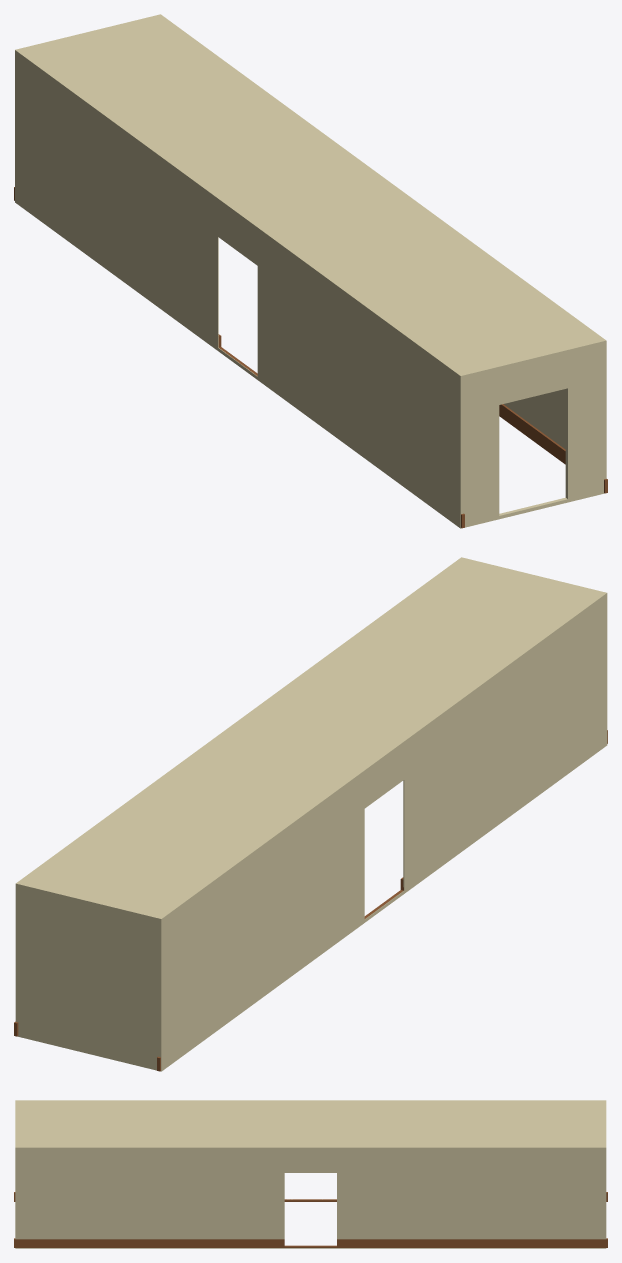
The model's file is hallway.fbx.
3 renders of one model, top to bottom at view 1: azimuth 30°, elevation 25°; view 2: azimuth 150°, elevation 25°; view 3: azimuth 270°, elevation 25°, orthographic. The views are drawn at different scales.
Visible parts, largest first — view 1: Hallway, raling2; view 2: Hallway; view 3: Hallway, raling2.
Part boxes in pixels (x1,y1,x2,y2): Hallway: (15, 14, 606, 528); raling2: (499, 404, 607, 493); Hallway: (15, 557, 607, 1071); Hallway: (15, 1100, 606, 1248); raling2: (14, 1238, 607, 1247).
Size of the model in its own units: 201 by 200 by 1064.
